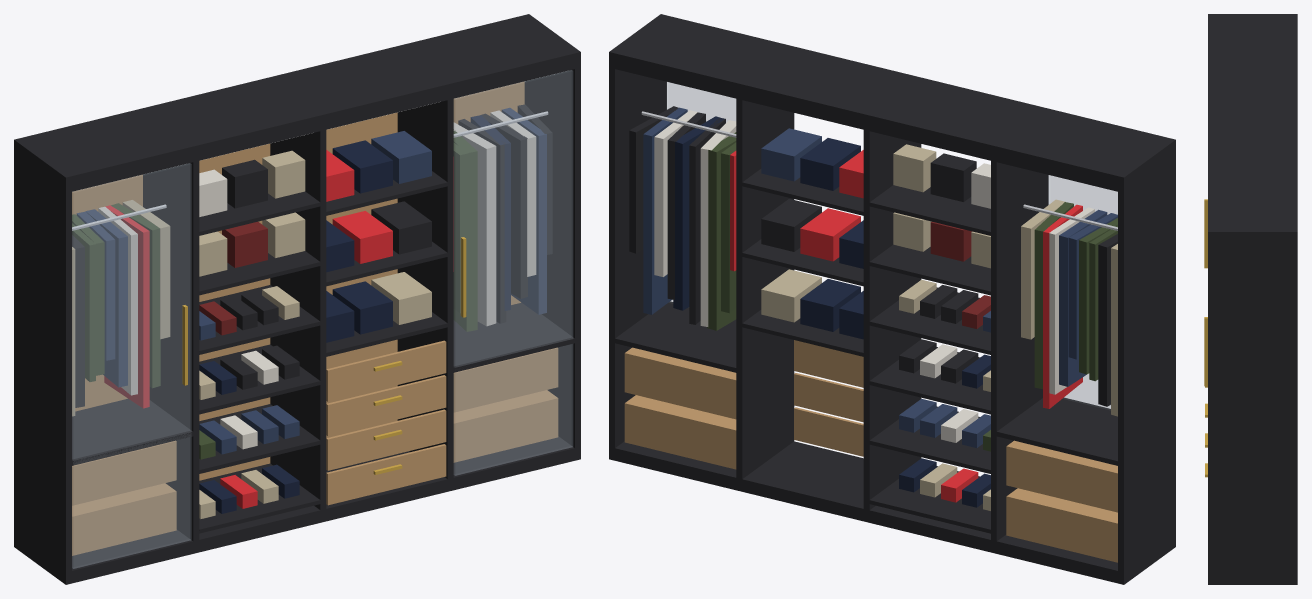
Rendered from wardrobe_wall.glb.
3 views of the same model, side by side, from view 1: azimuth 30°, elevation 25°; view 2: azimuth 150°, elevation 25°; view 3: azimuth 270°, elevation 25° (orthographic). The views are drawn at different scales.
Parts seen in each view (by area): view 1: wardrobe_wall; view 2: wardrobe_wall; view 3: wardrobe_wall.
Part boxes in pixels (<box>): wardrobe_wall: <box>14,14,580,584</box>; wardrobe_wall: <box>609,14,1175,584</box>; wardrobe_wall: <box>1204,14,1297,584</box>.
Size of the model in its own units: 3.44 by 2.6 by 0.625.
